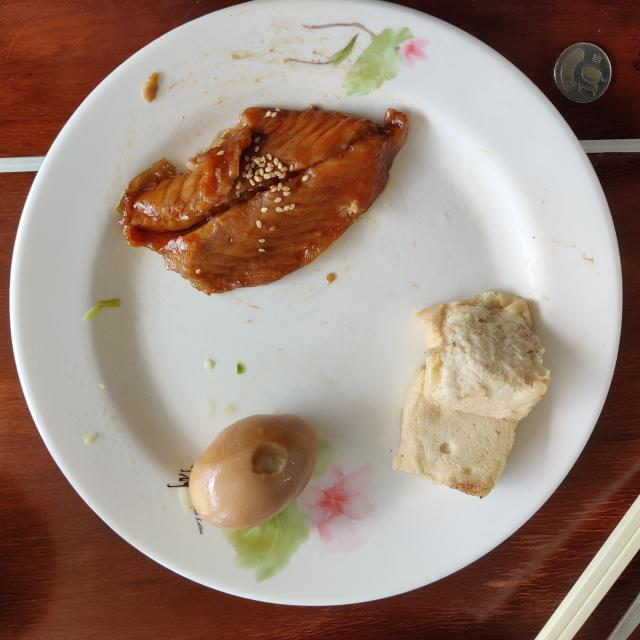Kabayaki sea bream fillet: (118, 108, 408, 294)
coin: (554, 42, 611, 102)
creamy tofu -without sauce-: (394, 291, 550, 498)
soy egg: (189, 414, 318, 530)
